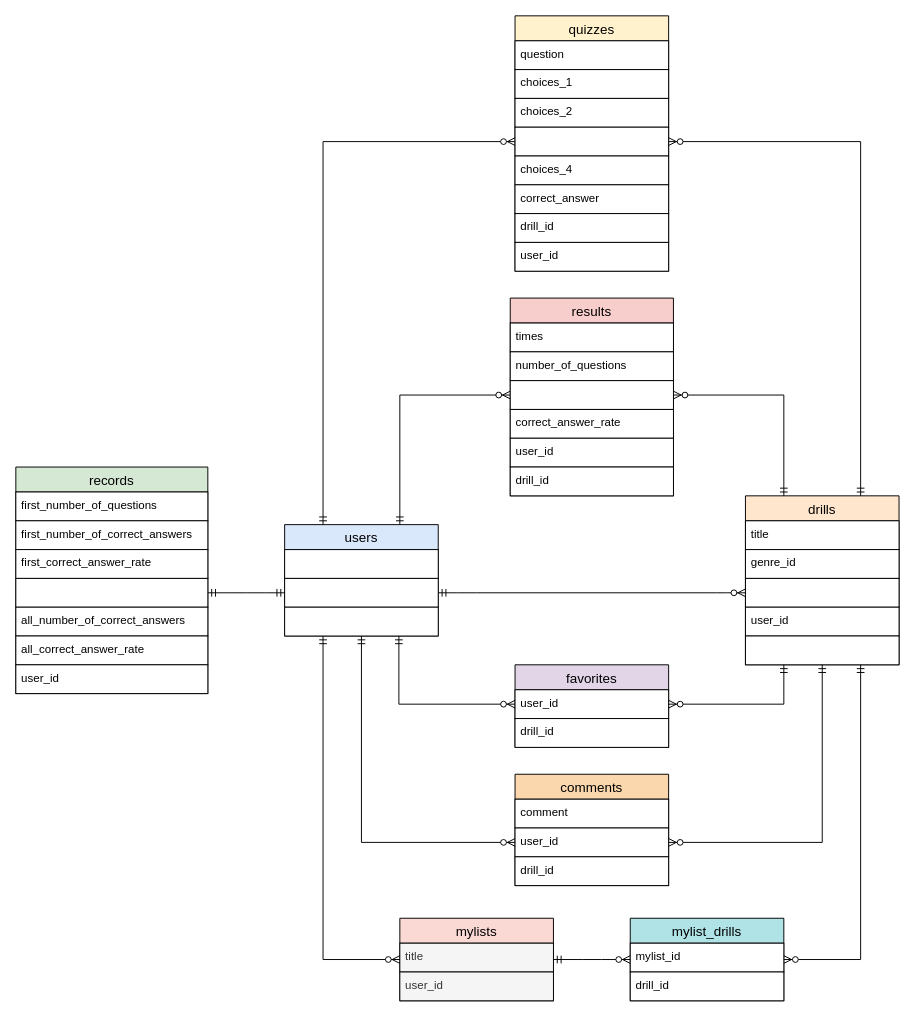
The diagram is 915 pixels wide and 1017 high, and some of its shapes have lost their labels. The centre of each missing label's shape, as x and y in pixels:
"all_number_of_questions" goes at pixel 111 592.
"choices_3" goes at pixel 591 141.
"email" goes at pixel 361 592.
"information" goes at pixel 821 592.
"nickname" goes at pixel 361 563.
"number_of_correct_answers" goes at pixel 591 394.
"password" goes at pixel 361 621.
"status" goes at pixel 821 650.
